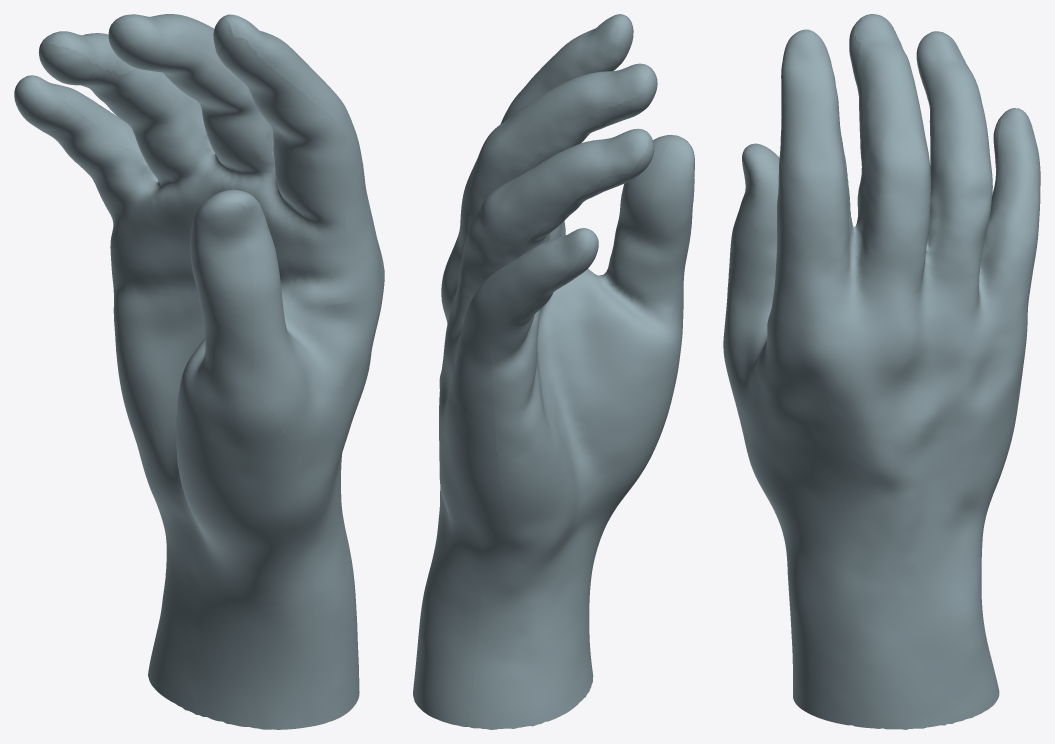
The model's file is reference.glb.
The picture shows the model from 3 angles, left to right: view 1: azimuth 30°, elevation 25°; view 2: azimuth 150°, elevation 25°; view 3: azimuth 270°, elevation 25°; orthographic projection. The views are drawn at different scales.
Visible parts, largest first — view 1: LIBHAND_SURFACE_1; view 2: LIBHAND_SURFACE_1; view 3: LIBHAND_SURFACE_1.
Part boxes in pixels (<box>): LIBHAND_SURFACE_1: <box>14,14,384,729</box>; LIBHAND_SURFACE_1: <box>413,14,694,729</box>; LIBHAND_SURFACE_1: <box>723,14,1040,729</box>.
Size of the model in its own units: 0.0985 by 0.25 by 0.1139.
